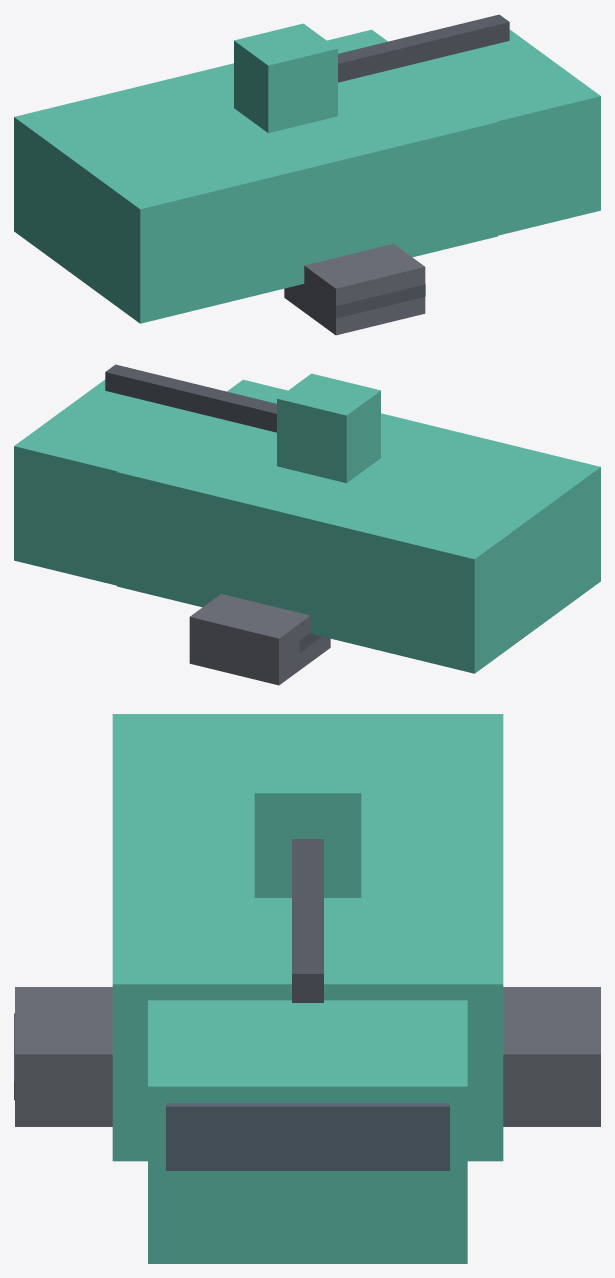
Rendered from apc_buy.glb.
The picture shows the model from 3 angles, top to bottom: view 1: azimuth 30°, elevation 25°; view 2: azimuth 150°, elevation 25°; view 3: azimuth 270°, elevation 25°; orthographic projection. The views are drawn at different scales.
Visible parts, largest first — view 1: body, gun, wheel_R; view 2: body, gun, wheel_L; view 3: body, gun, wheel_R, wheel_L.
Part boxes in pixels (x1,y1,x2,y2): body: (14, 29, 600, 323); gun: (234, 14, 509, 133); wheel_R: (284, 243, 425, 335); body: (14, 379, 600, 673); gun: (105, 364, 380, 483); wheel_L: (189, 593, 330, 685); body: (112, 714, 503, 1263); gun: (254, 741, 361, 1002); wheel_R: (14, 987, 112, 1126); wheel_L: (503, 987, 600, 1126).
Size of the model in its own units: 4.8 by 2.02 by 3.31.
